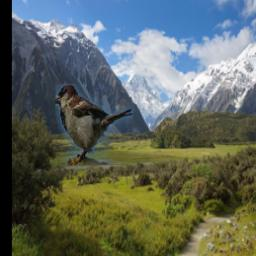Sparrow: (54, 85, 132, 166)
